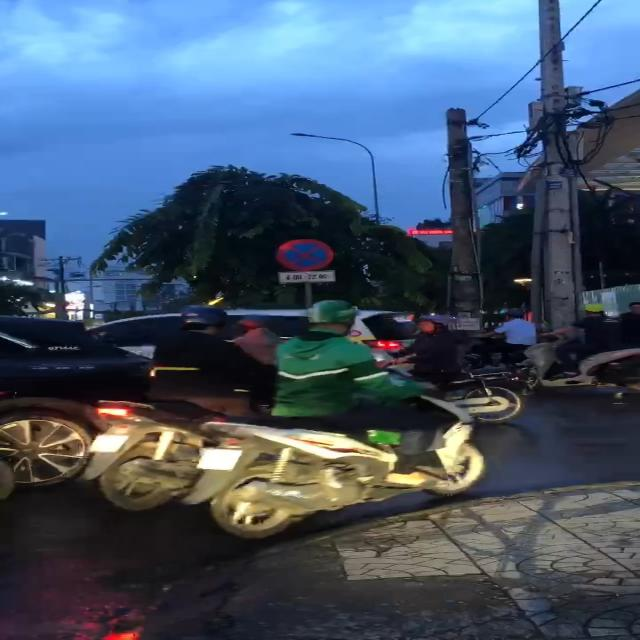Bien bao cam dung xe va do xe: (268, 236, 339, 272)
